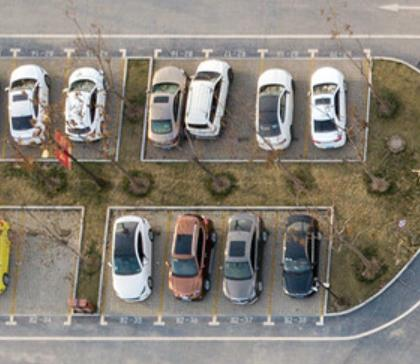car: (221, 213, 269, 306), (165, 212, 214, 302), (108, 216, 155, 303), (185, 60, 235, 139), (5, 63, 52, 146), (252, 66, 296, 152), (145, 64, 187, 151), (61, 64, 106, 145), (306, 65, 348, 151), (280, 213, 321, 298)
